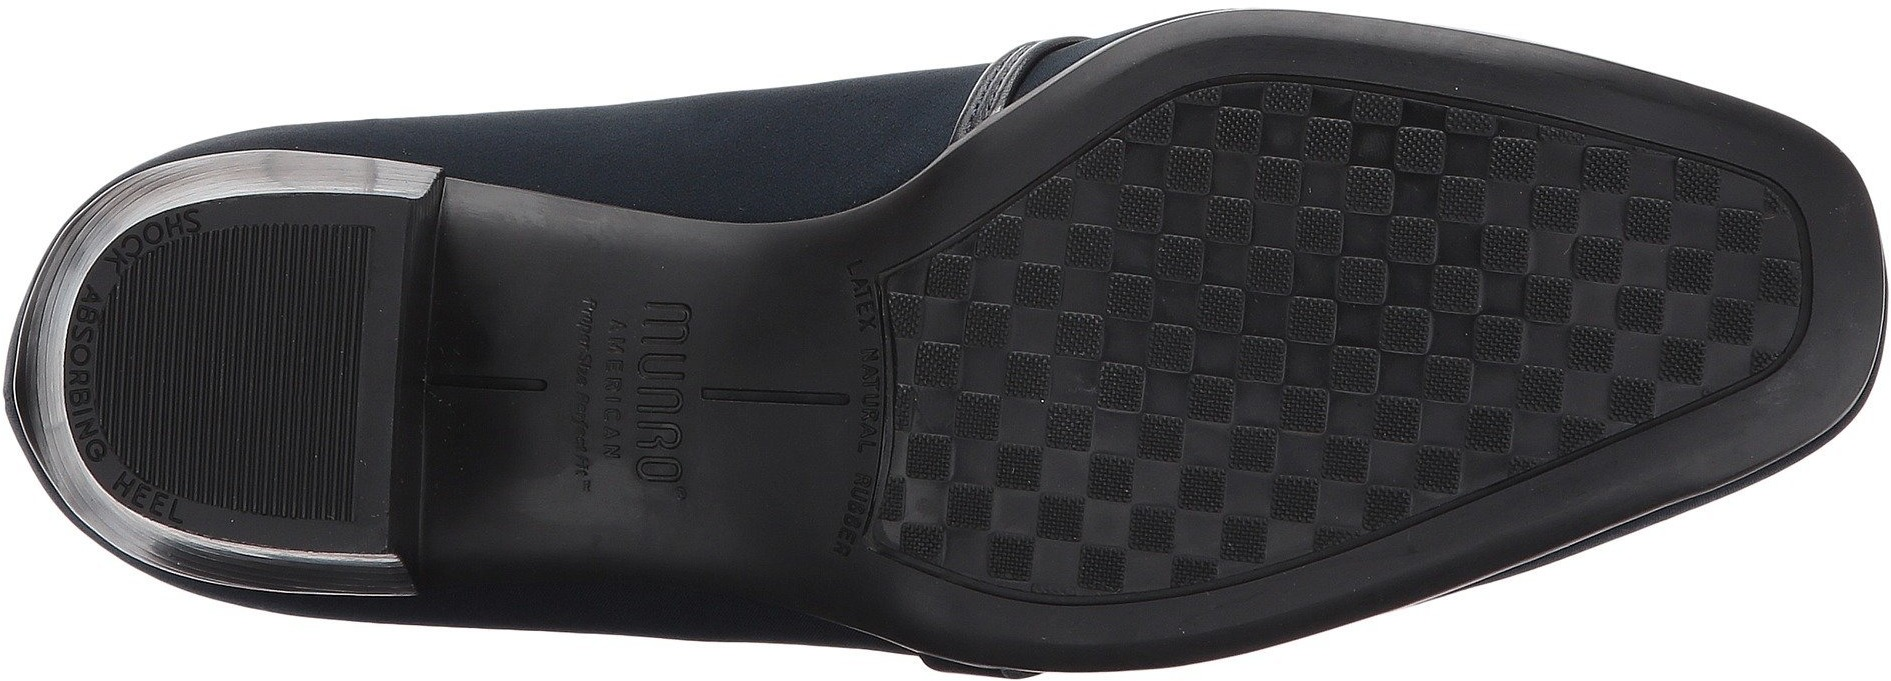other: (174, 237, 370, 401), (187, 384, 321, 515)
quad: (1043, 227, 1343, 519), (1331, 163, 1586, 411), (1571, 190, 1762, 391), (911, 297, 1064, 446), (1204, 104, 1352, 258)
text: (528, 262, 739, 505)
